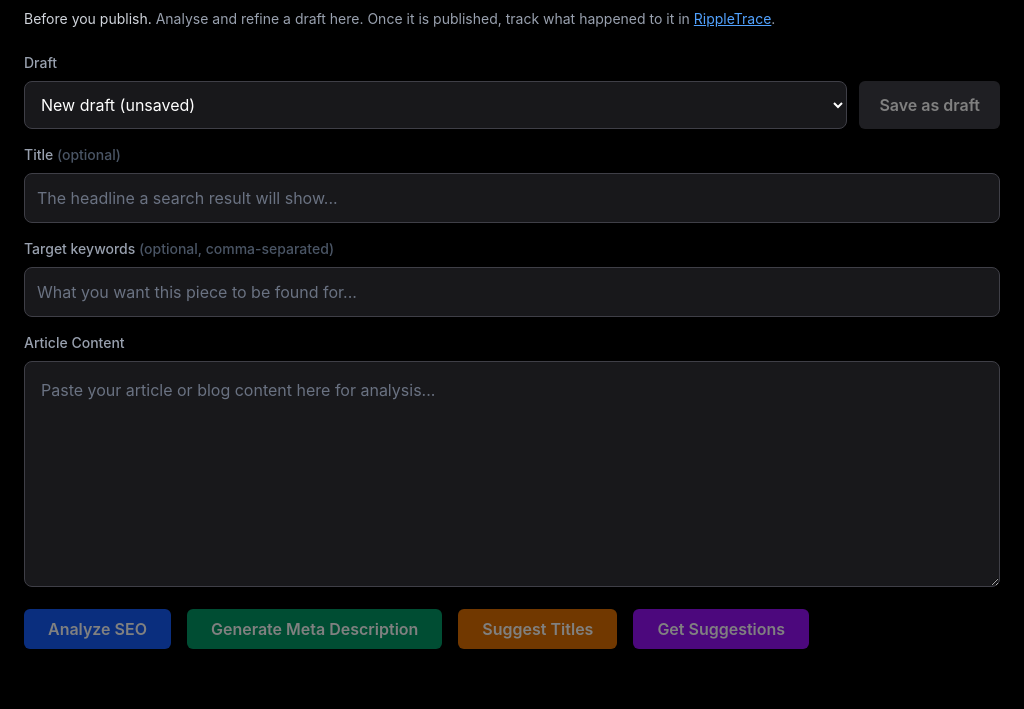
Test: SEO tool title and character budgets › shows no title panel when the analysis carries none
This screenshot has width=1024, height=709.
Type "some article body" into the text box with placeholder "Paste your article or blog content here for analysis..." at {"x": 512, "y": 474}, box x1=24 y1=361 x2=1000 y2=587
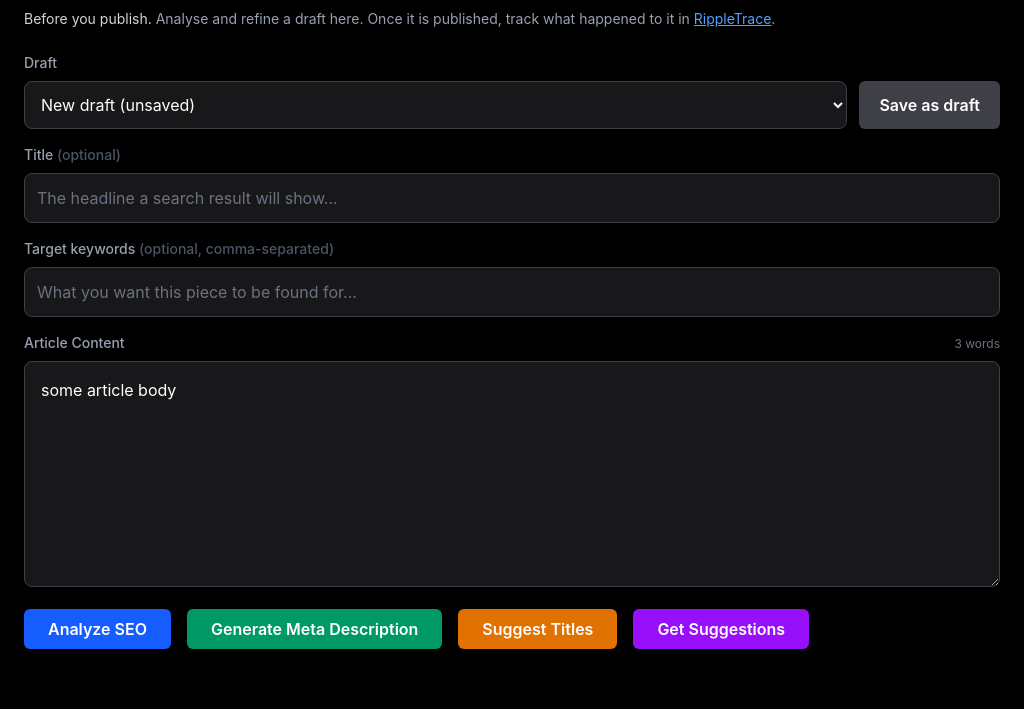
Click the button "Analyze SEO" at {"x": 98, "y": 629}, box x1=24 y1=609 x2=171 y2=649
(page scrolled)
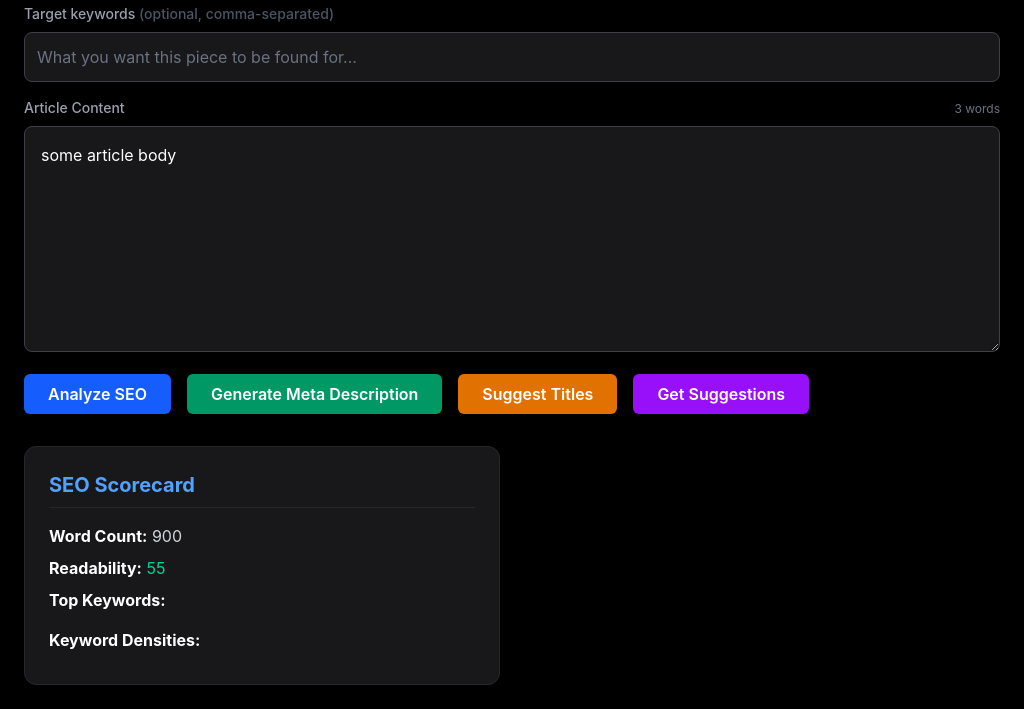
Expected: the text "Word Count:" is shown, x1=49 y1=526 x2=147 y2=546
